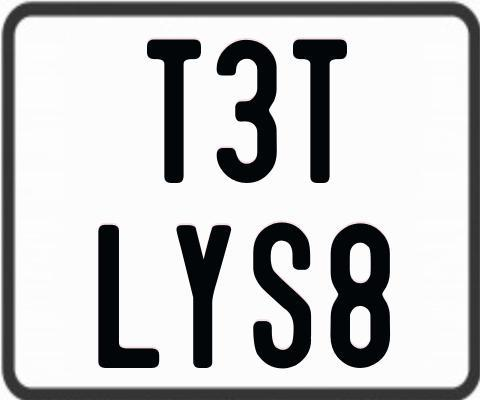3: (216, 40, 280, 185)
8: (327, 223, 388, 372)
L: (98, 224, 161, 369)
S: (250, 221, 313, 368)
T: (290, 38, 349, 184), (147, 37, 201, 182)
Y: (176, 225, 236, 370)
